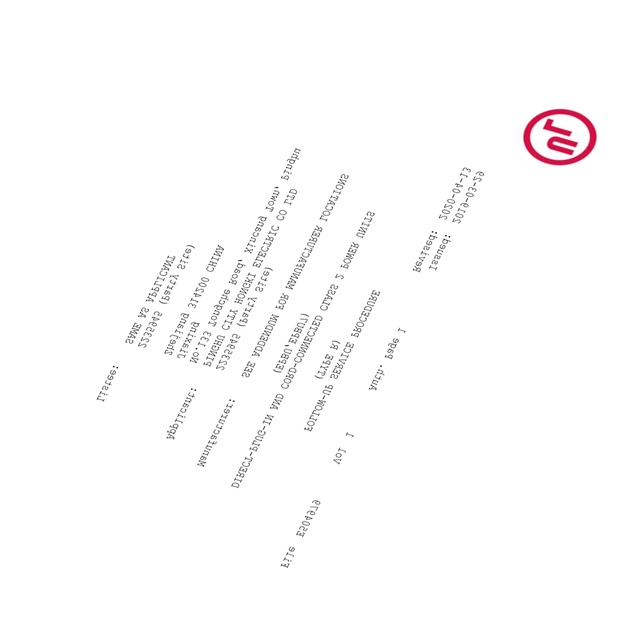ul: (521, 108, 598, 165)
